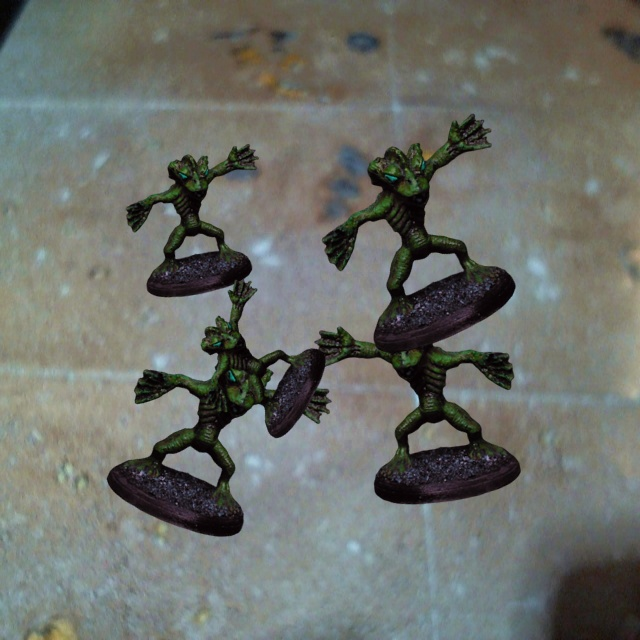pieza_juego: (322, 114, 515, 352), (107, 352, 331, 536), (313, 315, 520, 504), (126, 144, 258, 296), (201, 279, 325, 437)
